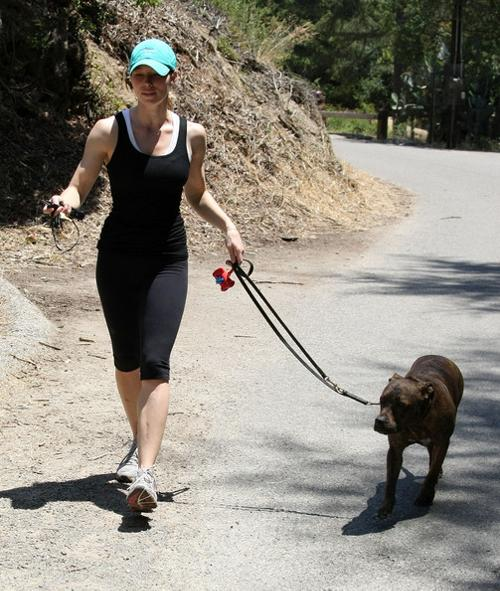person: (45, 40, 247, 512)
